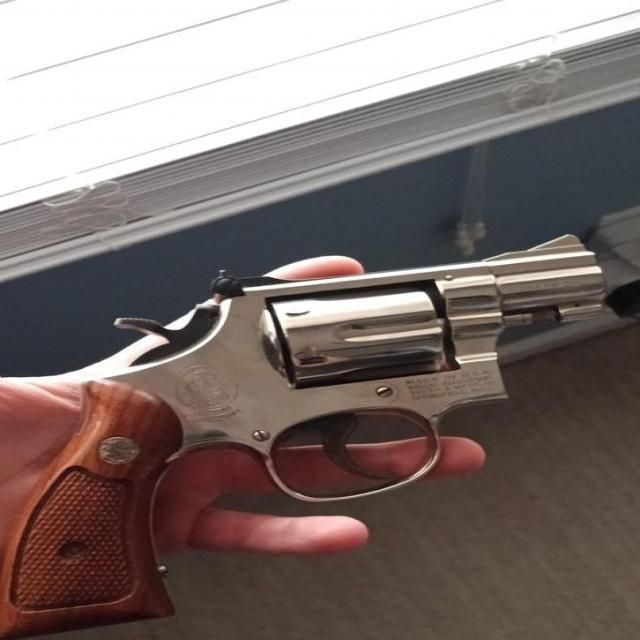revolver: (0, 205, 640, 627)
